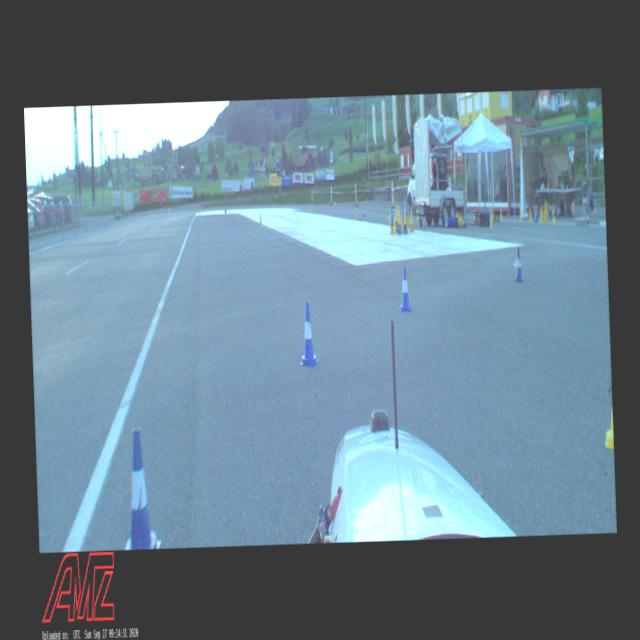blue_cone: (120, 426, 161, 550), (298, 302, 318, 366), (397, 266, 412, 312), (513, 246, 523, 281), (389, 208, 394, 224), (404, 197, 408, 215), (443, 217, 449, 228), (534, 208, 538, 222), (397, 224, 401, 233), (403, 224, 407, 233), (361, 206, 364, 216)
yellow_cone: (542, 206, 548, 224), (402, 207, 407, 224), (488, 214, 493, 230), (394, 204, 398, 222), (397, 207, 401, 224), (409, 207, 413, 224), (393, 218, 397, 234), (538, 208, 542, 224), (552, 208, 556, 224), (528, 208, 532, 222), (518, 209, 522, 222), (400, 216, 403, 232), (499, 207, 502, 221), (388, 212, 391, 225), (259, 212, 262, 224), (416, 208, 418, 220), (386, 208, 388, 219), (354, 208, 356, 216)
